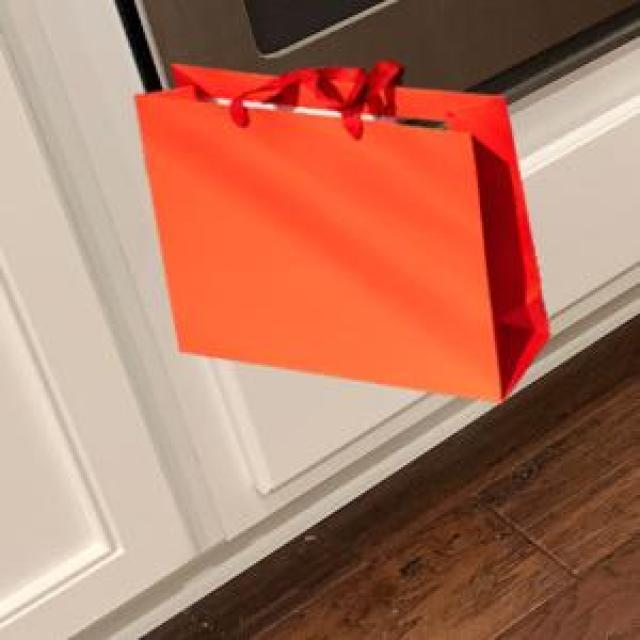paper: (132, 56, 546, 399)
